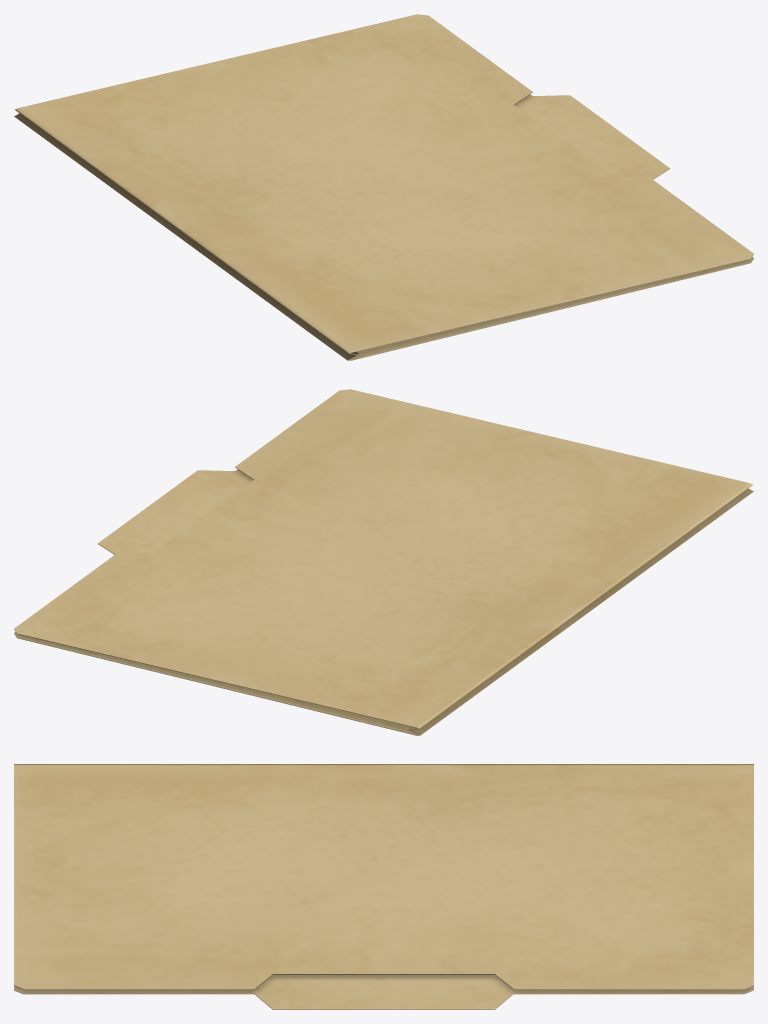
The model's file is Office_FolderManilla_1.fbx.
3 renders of one model, top to bottom at view 1: azimuth 30°, elevation 25°; view 2: azimuth 150°, elevation 25°; view 3: azimuth 270°, elevation 25°, orthographic. The views are drawn at different scales.
Parts seen in each view (by area): view 1: Office_FolderManilla_1; view 2: Office_FolderManilla_1; view 3: Office_FolderManilla_1.
Part boxes in pixels (x1,y1,x2,y2): Office_FolderManilla_1: [14, 14, 753, 360]; Office_FolderManilla_1: [14, 389, 753, 735]; Office_FolderManilla_1: [14, 764, 753, 1009].
Bounding box in the file's own units: 22.43 × 0.4066 × 29.51.
